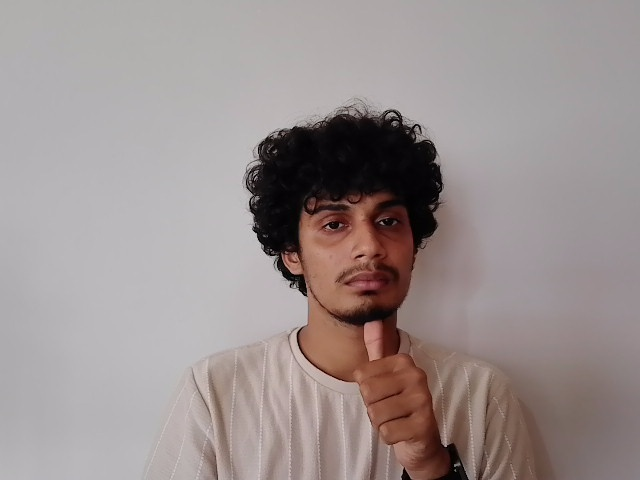not: (310, 293, 440, 438)
